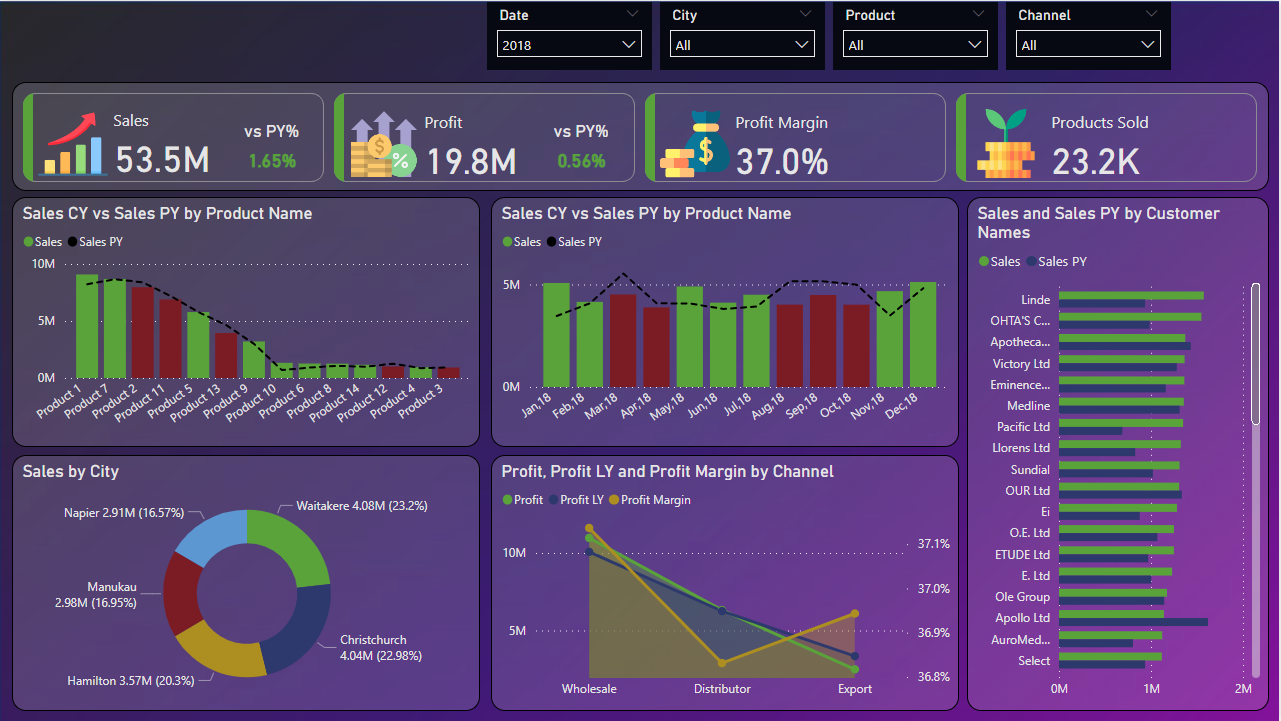

Layout of this report page (visuals, bound fields, positions):
{"tool":"powerbi","page":{"name":"Sales Dashboard","canvas":[1280,720],"ordinal":0},"visuals":[{"type":"slicer","fields":{"Values":["DateTable.Year","DateTable.Month Short Name Plus Year"]},"box":[488.2,1.4,165,67.7],"z":0},{"type":"slicer","fields":{"Values":["Regions_Table.City"]},"box":[661,1.4,165,67.7],"z":1000},{"type":"slicer","fields":{"Values":["Products_Data.Product Name"]},"box":[833.8,1.4,165,67.7],"z":2000},{"type":"slicer","fields":{"Values":["Sales_Data.Channel"]},"box":[1006.6,1.4,165,67.7],"z":3000},{"type":"lineClusteredColumnComboChart","title":"Sales CY vs Sales PY by Product Name","fields":{"Category":["Products_Data.Product Name"],"Y":["Measure Table.Sales"],"Y2":["Measure Table.Sales PY"]},"box":[13,195.8,468,250.6],"z":4000},{"type":"lineClusteredColumnComboChart","title":"Sales CY vs Sales PY by Product Name","fields":{"Y":["Measure Table.Sales"],"Y2":["Measure Table.Sales PY"],"Category":["DateTable.Month Short Name Plus Year"]},"box":[492.5,195.8,468,250.6],"z":5000},{"type":"donutChart","fields":{"Y":["Measure Table.Sales"],"Category":["Regions_Table.City"]},"box":[13,453.6,468,256.3],"z":6000},{"type":"areaChart","fields":{"Category":["Sales_Data.Channel"],"Y":["Measure Table.Profit","Measure Table.Profit LY"],"Y2":["Measure Table.Profit Margin"]},"box":[492.5,453.6,468,256.3],"z":7000},{"type":"clusteredBarChart","fields":{"Y":["Measure Table.Sales","Measure Table.Sales PY"],"Category":["Customer_Data.Customer Names"]},"box":[967.7,195.8,302.4,514.1],"z":8000},{"type":"cardVisual","fields":{"Data":["Measure Table.Sales","Measure Table.Profit","Measure Table.Profit Margin","Measure Table.Products Sold"]},"box":[13,80.6,1257.1,109.4],"z":9000},{"type":"card","title":"vs PY%","fields":{"Values":["Measure Table.Sales vs PY %"]},"box":[226.1,119.5,93.6,60.5],"z":10000},{"type":"card","title":"vs PY%","fields":{"Values":["Measure Table.Profit vs LY %"]},"box":[535.7,119.5,93.6,60.5],"z":11000}]}

Visuals, with their boxes in screenshot pixels (x1, y1, x2, y2), scaled from the page's 1280x720 canvas onto the 1281x721 screenshot:
slicer - DateTable.Year x DateTable.Month Short Name Plus Year: [x1=489, y1=1, x2=654, y2=69]
slicer - Regions_Table.City: [x1=662, y1=1, x2=827, y2=69]
slicer - Products_Data.Product Name: [x1=834, y1=1, x2=1000, y2=69]
slicer - Sales_Data.Channel: [x1=1007, y1=1, x2=1173, y2=69]
"Sales CY vs Sales PY by Product Name" lineClusteredColumnComboChart: [x1=13, y1=196, x2=481, y2=447]
"Sales CY vs Sales PY by Product Name" lineClusteredColumnComboChart: [x1=493, y1=196, x2=961, y2=447]
donutChart - Measure Table.Sales x Regions_Table.City: [x1=13, y1=454, x2=481, y2=711]
areaChart - Sales_Data.Channel x Measure Table.Profit: [x1=493, y1=454, x2=961, y2=711]
clusteredBarChart - Measure Table.Sales x Measure Table.Sales PY: [x1=968, y1=196, x2=1271, y2=711]
cardVisual - Measure Table.Sales x Measure Table.Profit: [x1=13, y1=81, x2=1271, y2=190]
"vs PY%" card: [x1=226, y1=120, x2=320, y2=180]
"vs PY%" card: [x1=536, y1=120, x2=630, y2=180]
